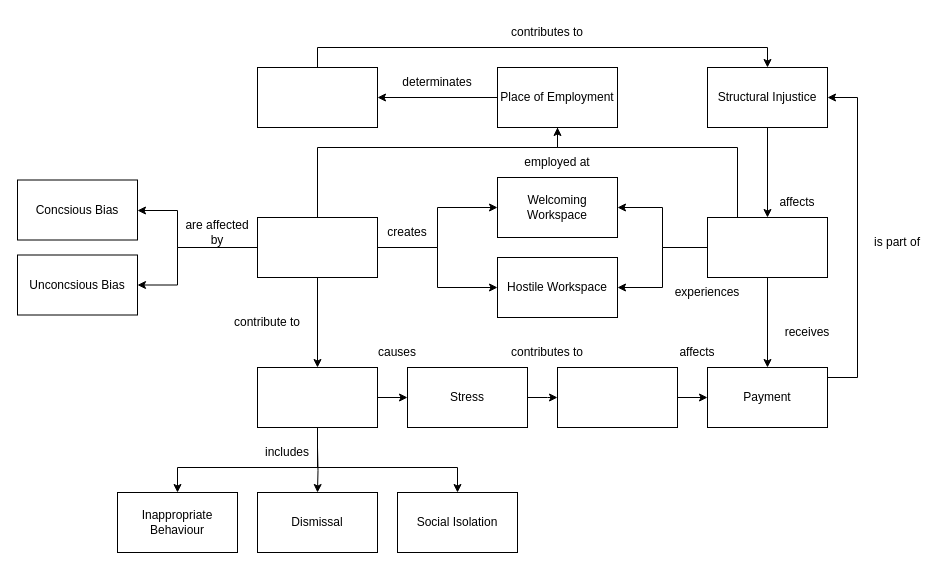
The diagram is 945 pixels wide and 570 high, and some of its shapes have lost their labels. The shapes that lost their labels are listed below. From the top down, each one's box as (x1, y1, x2, y2) in pixels, then its label:
(256, 66, 378, 128): Employment Status
(256, 216, 378, 278): Coworkers
(706, 216, 828, 278): Autistic Worker
(256, 366, 378, 428): Workplace Discrimination
(556, 366, 678, 428): Job Performance
